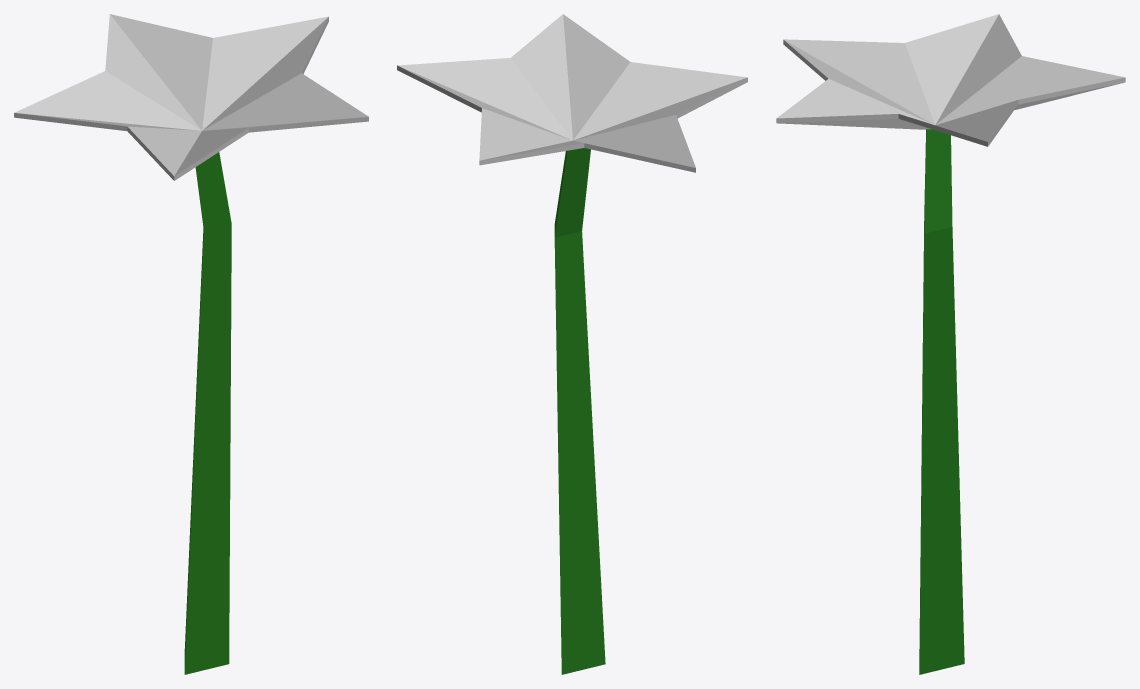
File: Flower_camomile_vc.fbx
3 views of the same model, side by side, from view 1: azimuth 30°, elevation 25°; view 2: azimuth 150°, elevation 25°; view 3: azimuth 270°, elevation 25° (orthographic). The views are drawn at different scales.
Parts seen in each view (by area): view 1: Flower_camomile_vc; view 2: Flower_camomile_vc; view 3: Flower_camomile_vc.
Boxes of the visible parts, left/top/right/bottom form: Flower_camomile_vc: left=14, top=14, right=368, bottom=674; Flower_camomile_vc: left=397, top=14, right=747, bottom=674; Flower_camomile_vc: left=776, top=14, right=1125, bottom=674.
Bounding box in the file's own units: 0.4598 × 0.8378 × 0.4429.
